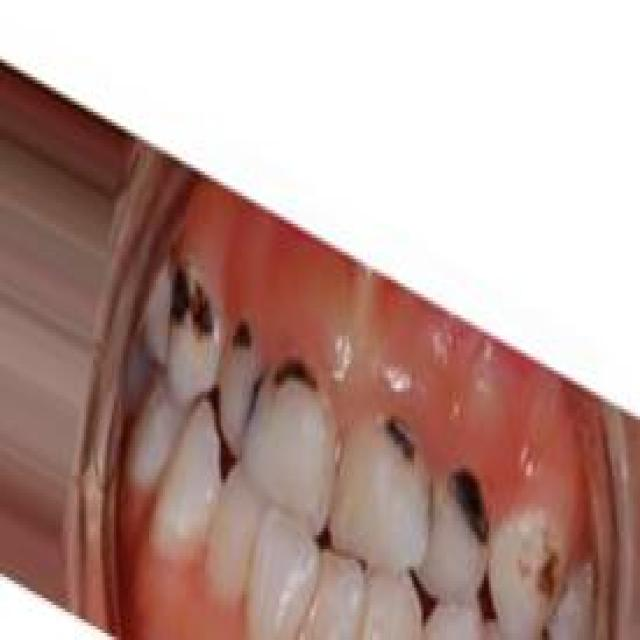caries: (436, 447, 509, 556), (261, 344, 334, 427), (164, 257, 228, 349), (365, 400, 424, 480), (222, 298, 268, 372)
